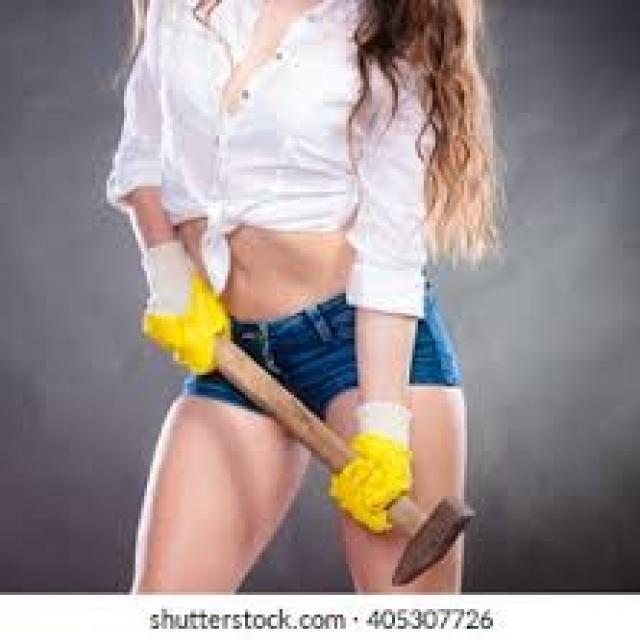hammer: (117, 243, 483, 606)
